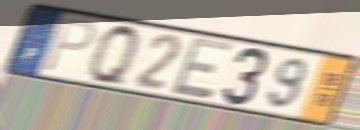2: (133, 32, 183, 94)
3: (219, 45, 270, 108)
9: (265, 56, 313, 110)
E: (168, 35, 236, 102)
P: (40, 17, 98, 75)
Q: (87, 21, 141, 91)
